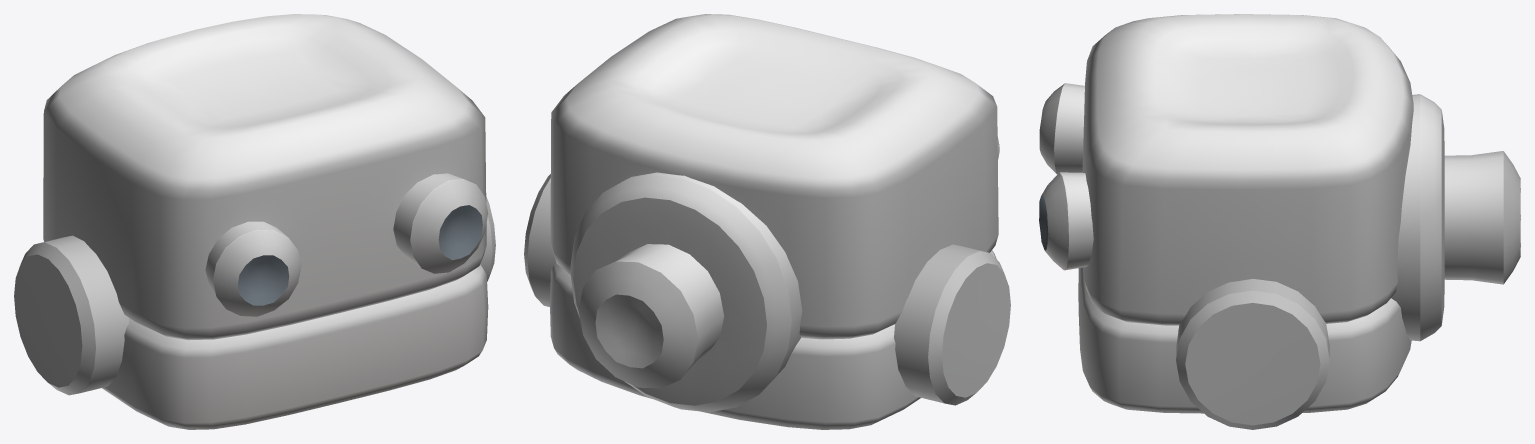
File: Cannon 2.fbx
The picture shows the model from 3 angles, left to right: view 1: azimuth 30°, elevation 25°; view 2: azimuth 150°, elevation 25°; view 3: azimuth 270°, elevation 25°; orthographic projection. The views are drawn at different scales.
Parts seen in each view (by area): view 1: Cannon_4, pCylinder9, pCylinder10; view 2: Cannon_4, pCylinder9, pCylinder10; view 3: Cannon_4, pCylinder10.
Part boxes in pixels (<box>): Cannon_4: <box>43,14,488,429</box>; pCylinder9: <box>14,235,129,395</box>; pCylinder10: <box>480,197,495,281</box>; Cannon_4: <box>550,14,999,429</box>; pCylinder9: <box>894,244,1010,405</box>; pCylinder10: <box>524,174,555,306</box>; Cannon_4: <box>1039,14,1520,413</box>; pCylinder10: <box>1176,279,1329,429</box>.
Size of the model in its own units: 133 by 83.17 by 137.
2 materials, 2 textured.
